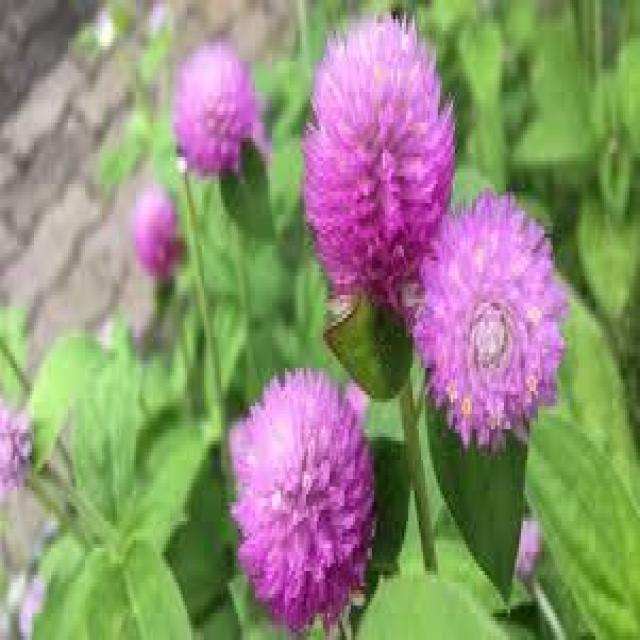organic waste: (295, 19, 456, 291), (206, 362, 381, 611), (409, 190, 571, 442), (176, 30, 260, 192)
